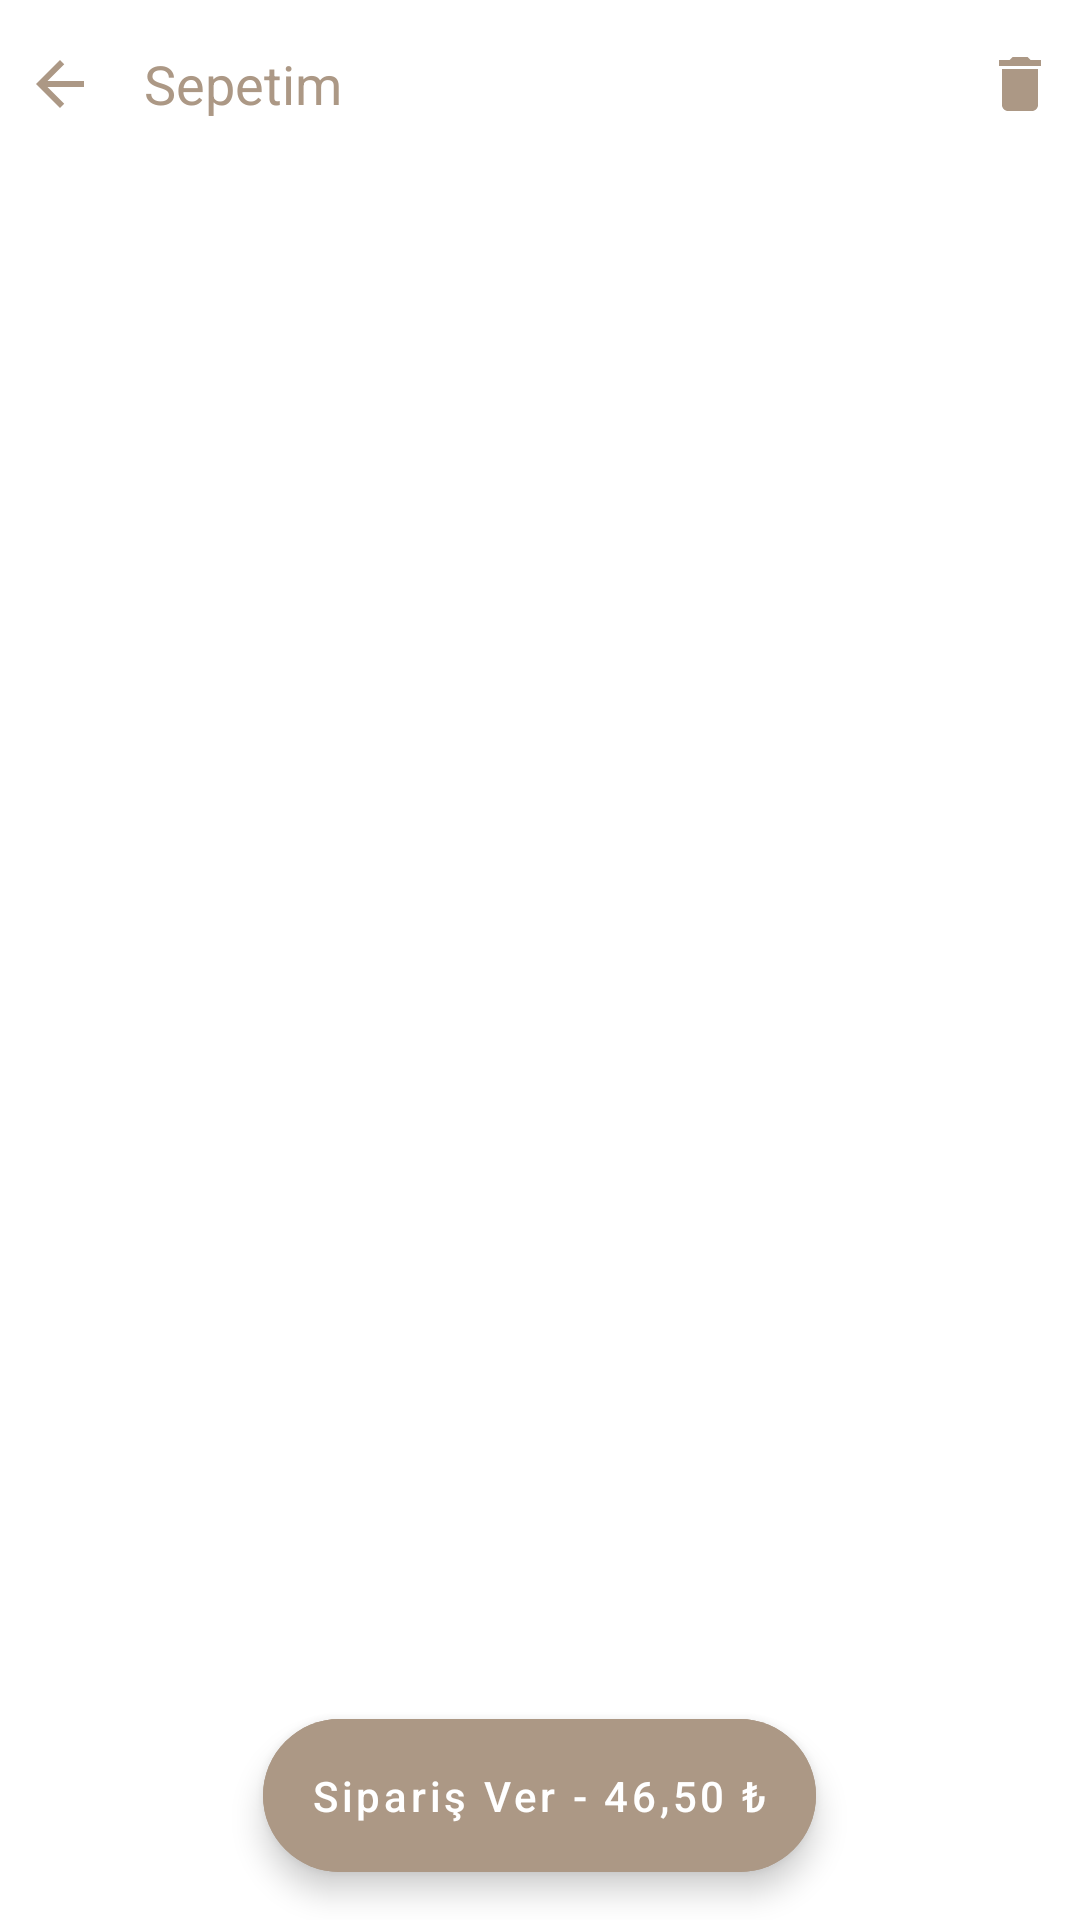

Screen size 1080px x 1920px. Icon name, then its center in pixels as [x,y]:
arrow back: [60,84]
